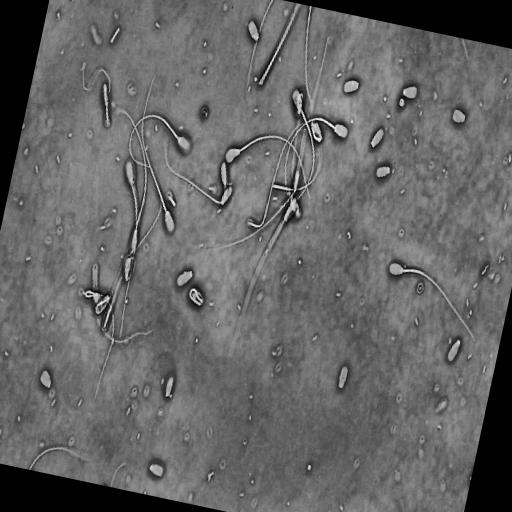coiled-tail: (190, 287, 202, 305), (310, 122, 321, 141)
folded-tail: (164, 142, 225, 203), (84, 290, 113, 397), (81, 62, 110, 108), (106, 108, 108, 123)
loose-head: (442, 333, 463, 369), (366, 121, 388, 154), (36, 365, 56, 396), (172, 265, 195, 291), (161, 365, 178, 400), (397, 78, 419, 103), (334, 362, 350, 395), (448, 106, 469, 130), (244, 16, 261, 45), (371, 161, 392, 184), (339, 73, 360, 96), (145, 458, 166, 479)
loose-tail: (244, 120, 304, 232), (255, 3, 301, 90), (244, 0, 274, 93), (27, 444, 92, 469), (303, 5, 314, 108)
normal: (383, 257, 477, 345), (281, 112, 351, 229), (222, 133, 311, 207), (139, 70, 177, 243), (162, 130, 227, 206), (126, 108, 192, 172), (82, 288, 116, 407), (117, 161, 138, 341), (75, 57, 113, 133), (185, 285, 206, 313), (309, 116, 324, 144)
